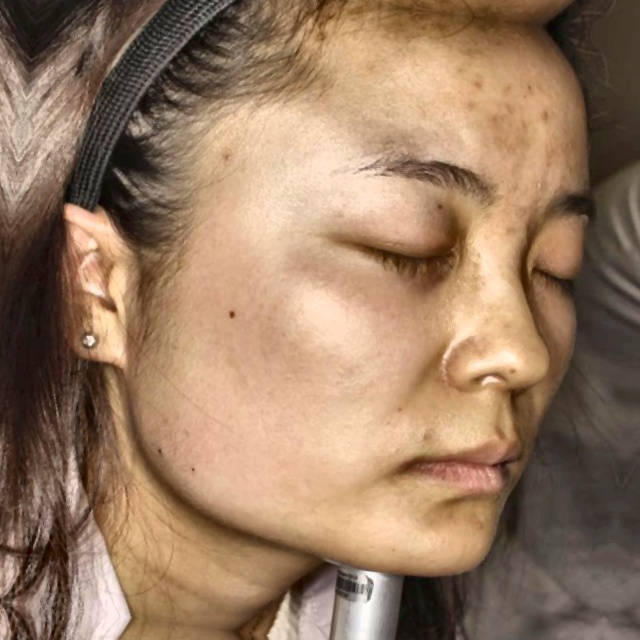comedone: (497, 93, 530, 121), (533, 103, 555, 129)
